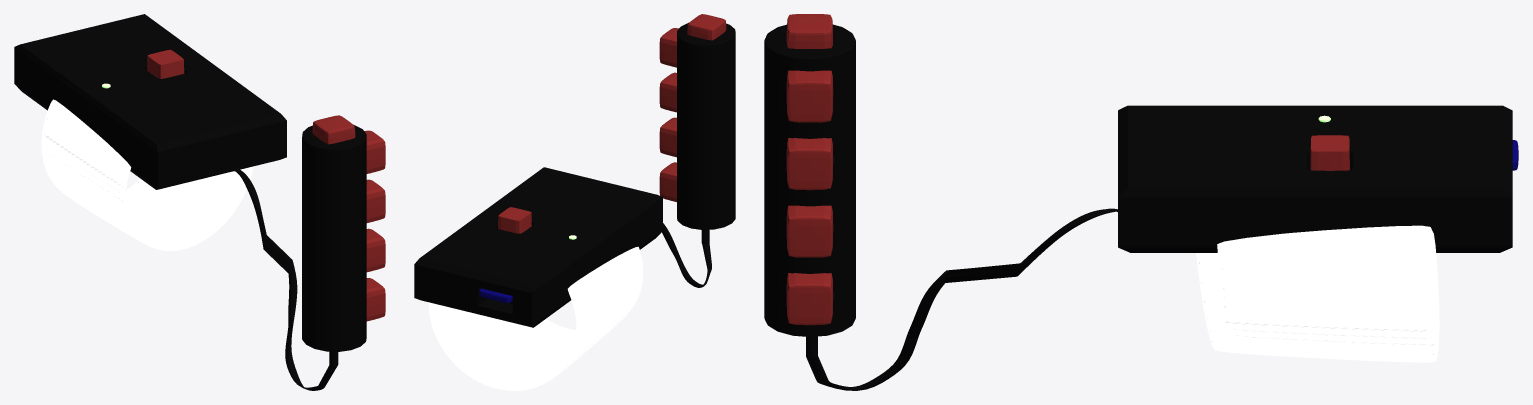
File: hand.glb
The picture shows the model from 3 angles, left to right: view 1: azimuth 30°, elevation 25°; view 2: azimuth 150°, elevation 25°; view 3: azimuth 270°, elevation 25°; orthographic projection. The views are drawn at different scales.
Visible parts, largest first — view 1: Cube, Cylinder.002, Cylinder, Cube.004, Cylinder.003, Cube.003, Cube.005; view 2: Cube, Cylinder, Cylinder.002, Cube.004, Cylinder.003, Cube.003, Cube.005, Cube.002; view 3: Cube, Cylinder, Cylinder.002, Cube.004, Cylinder.003, Cube.003, Cube.005.
Part boxes in pixels (left/top/right/bottom): Cube: left=14, top=14, right=286, bottom=189; Cylinder.002: left=302, top=124, right=366, bottom=351; Cylinder: left=41, top=99, right=253, bottom=251; Cube.004: left=364, top=130, right=385, bottom=321; Cylinder.003: left=232, top=167, right=338, bottom=390; Cube.003: left=312, top=115, right=355, bottom=144; Cube.005: left=147, top=49, right=184, bottom=78; Cube: left=414, top=167, right=662, bottom=327; Cylinder: left=428, top=246, right=643, bottom=390; Cylinder.002: left=677, top=22, right=735, bottom=229; Cube.004: left=659, top=28, right=678, bottom=201; Cylinder.003: left=662, top=223, right=711, bottom=287; Cube.003: left=687, top=14, right=726, bottom=40; Cube.005: left=498, top=207, right=531, bottom=233; Cube.002: left=479, top=288, right=512, bottom=303; Cube: left=1118, top=105, right=1512, bottom=252; Cylinder: left=1196, top=225, right=1439, bottom=362; Cylinder.002: left=764, top=24, right=855, bottom=336; Cube.004: left=786, top=70, right=833, bottom=325; Cylinder.003: left=806, top=208, right=1117, bottom=390; Cube.003: left=786, top=14, right=832, bottom=48; Cube.005: left=1310, top=135, right=1349, bottom=170.
Size of the model in its own units: 0.3598 by 0.6222 by 1.13.
